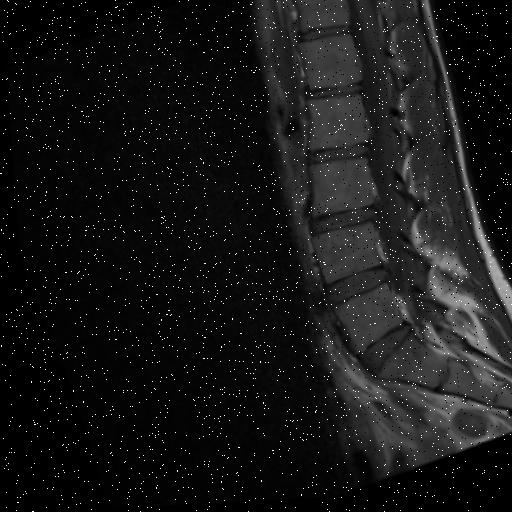L1: (297, 36, 360, 91)
L2: (305, 101, 365, 152)
L3: (308, 162, 371, 218)
L4: (306, 225, 377, 286)
L5: (329, 287, 397, 356)
S1: (371, 333, 441, 391)
